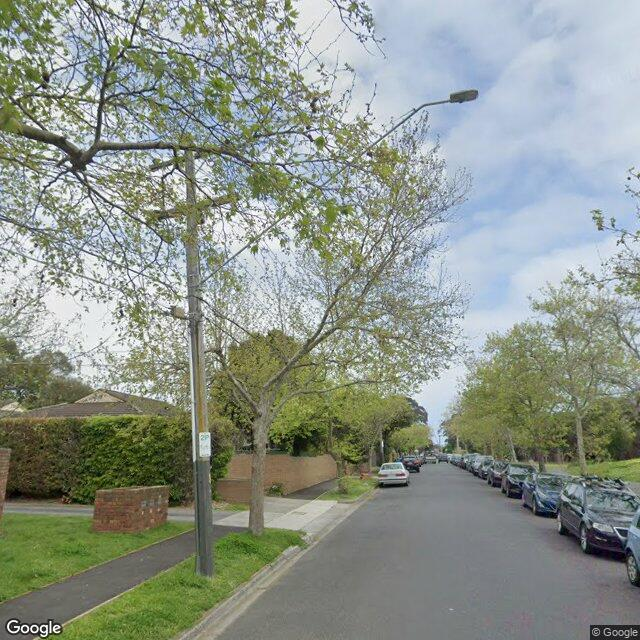crossarm: (154, 192, 241, 221), (149, 151, 214, 172)
streetlight: (197, 89, 480, 288)
timber-pole: (184, 152, 214, 578)
